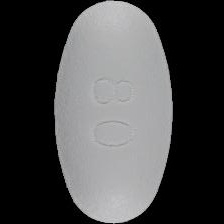54868-4934: (0, 0, 224, 224)
